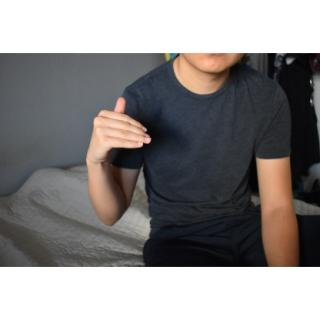KHAA: (84, 94, 153, 171)
